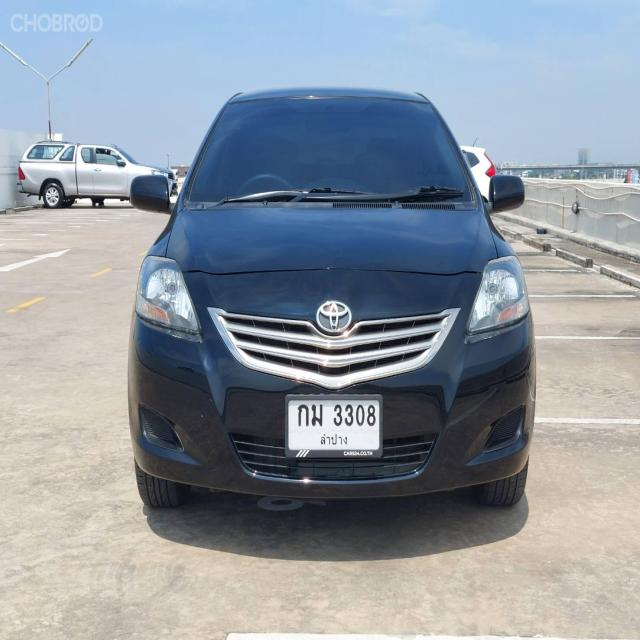license_plate: (285, 390, 382, 460)
